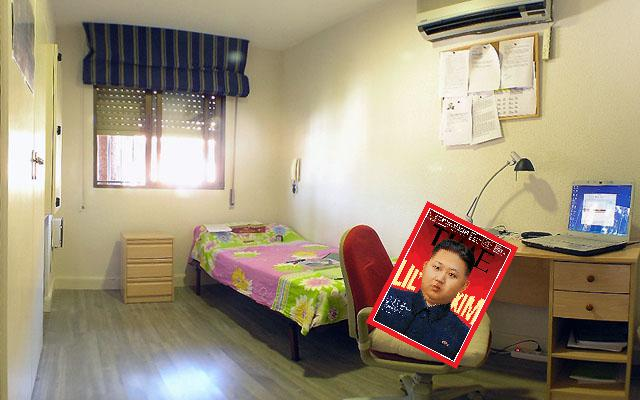times: (359, 197, 521, 374)
